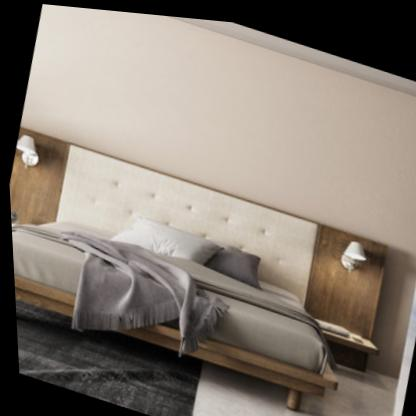Bed: (9, 145, 335, 407)
Carpet: (13, 314, 195, 416)
